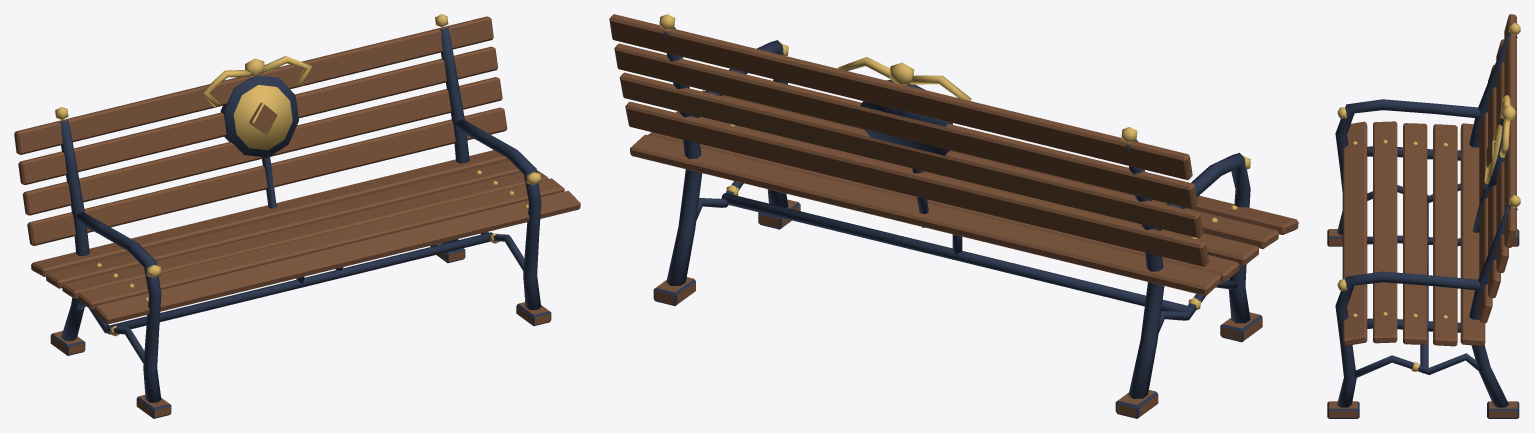
The model's file is prop_city_bench.glb.
3 renders of one model, left to right at view 1: azimuth 30°, elevation 25°; view 2: azimuth 150°, elevation 25°; view 3: azimuth 270°, elevation 25°, orthographic. The views are drawn at different scales.
Parts seen in each view (by area): view 1: prop_city_bench; view 2: prop_city_bench; view 3: prop_city_bench.
Part boxes in pixels (left/top/right/bottom): prop_city_bench: left=14, top=14, right=580, bottom=418; prop_city_bench: left=609, top=14, right=1298, bottom=418; prop_city_bench: left=1327, top=14, right=1520, bottom=418.
Bounding box in the file's own units: 2.2 × 1.07 × 0.8355.
